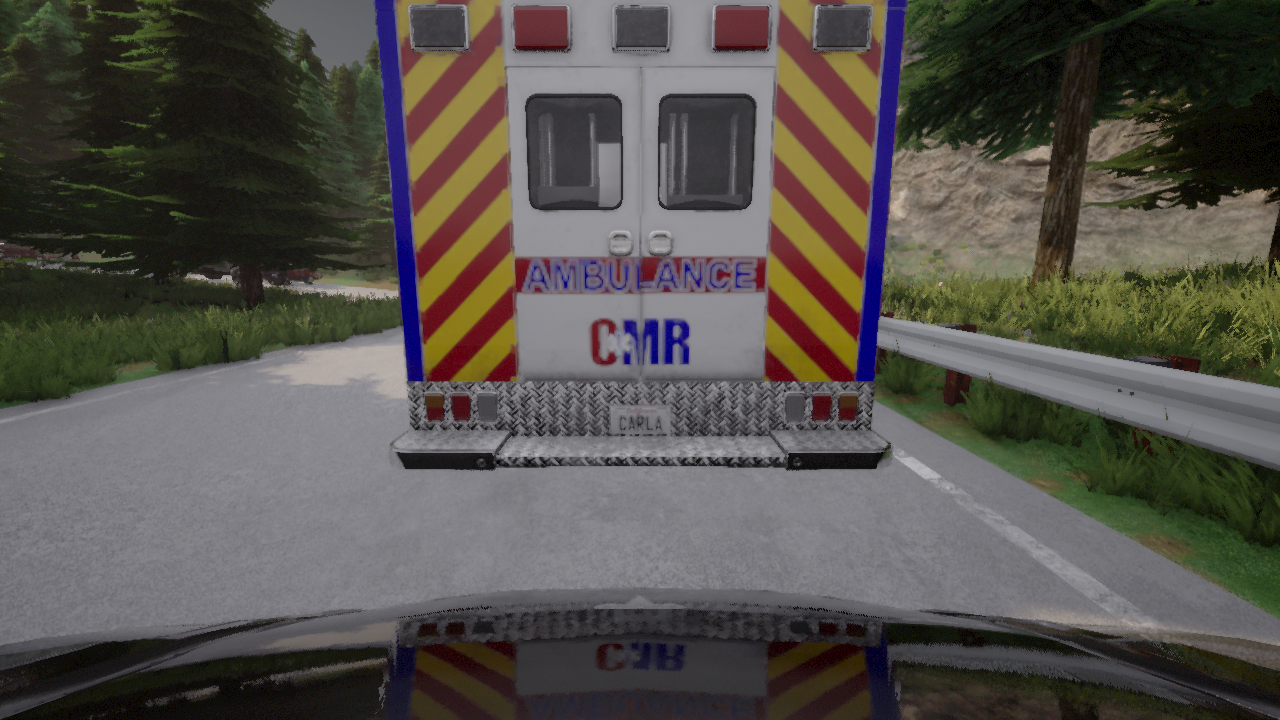cyclist: (373, 0, 907, 469), (0, 588, 1279, 719), (169, 262, 287, 286), (0, 239, 80, 266), (262, 263, 323, 284)
